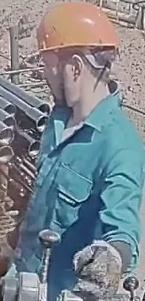gloves: (72, 239, 122, 298)
helmet: (36, 1, 120, 54)
vest: (11, 81, 144, 289)
